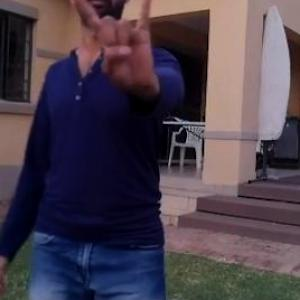takeoff-hand: (67, 0, 161, 103)
